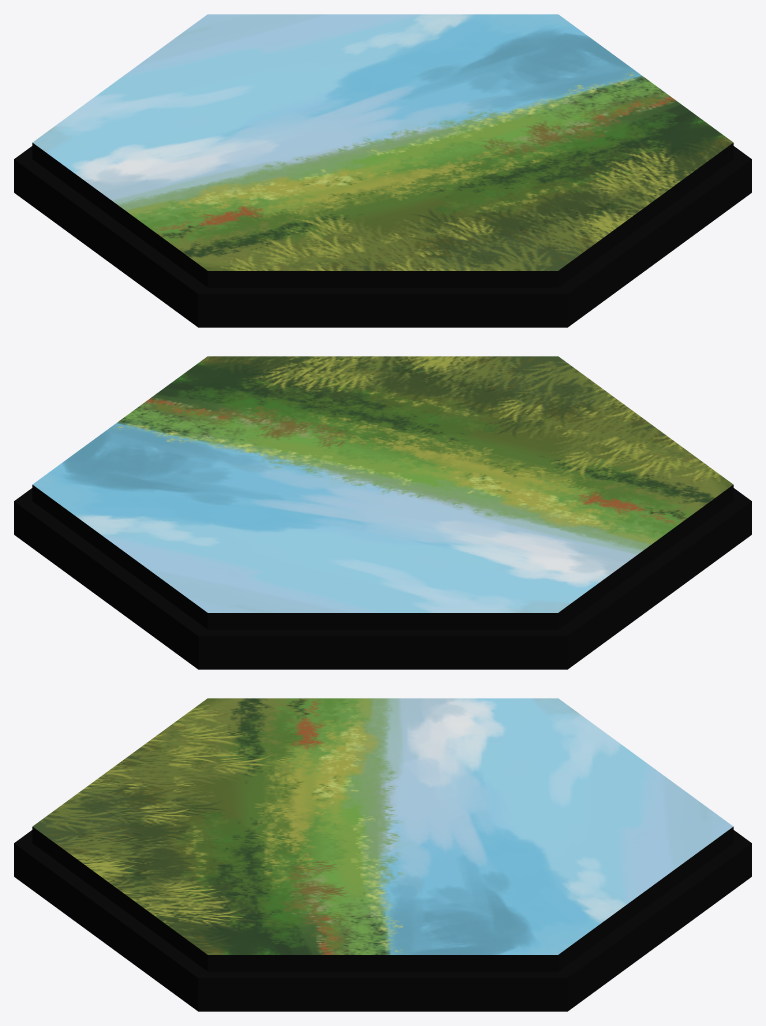
Rendered from hex.fbx.
3 views of the same model, one above another, from view 1: azimuth 30°, elevation 25°; view 2: azimuth 150°, elevation 25°; view 3: azimuth 270°, elevation 25° (orthographic).
Parts seen in each view (by area): view 1: Tile; view 2: Tile; view 3: Tile.
Part boxes in pixels (left/top/right/bottom): Tile: left=14, top=14, right=751, bottom=327; Tile: left=14, top=356, right=751, bottom=669; Tile: left=14, top=698, right=751, bottom=1011.
Bounding box in the file's own units: 173 × 15 × 200.
2 materials, 1 textured.
